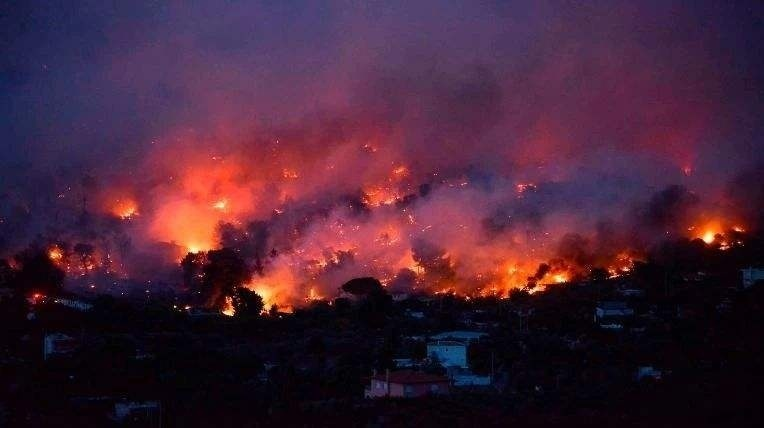fire: (691, 216, 737, 246)
